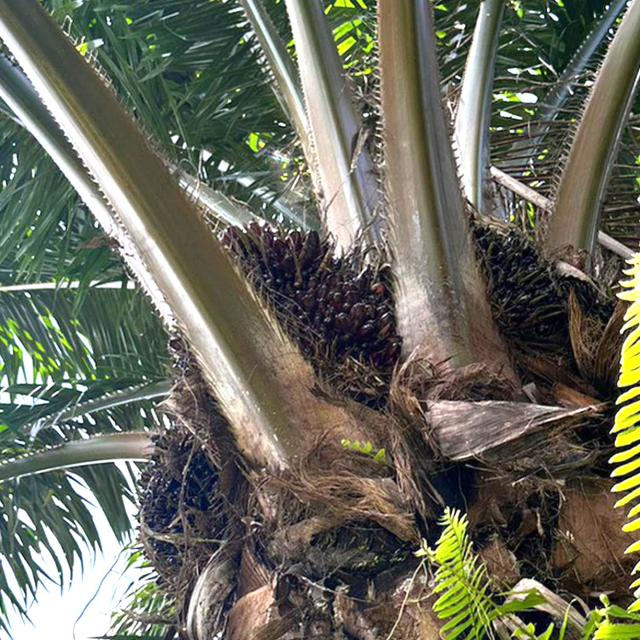ripe: (202, 205, 406, 397), (458, 194, 600, 362), (137, 403, 231, 587)
